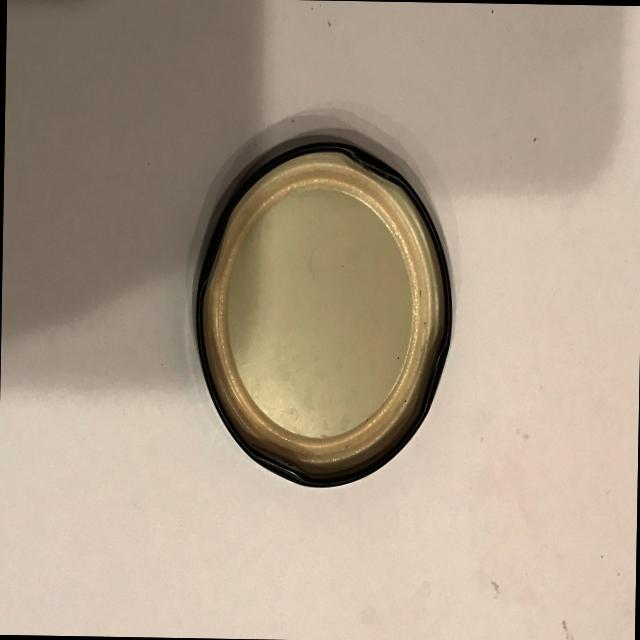Metal: (171, 123, 464, 506)
